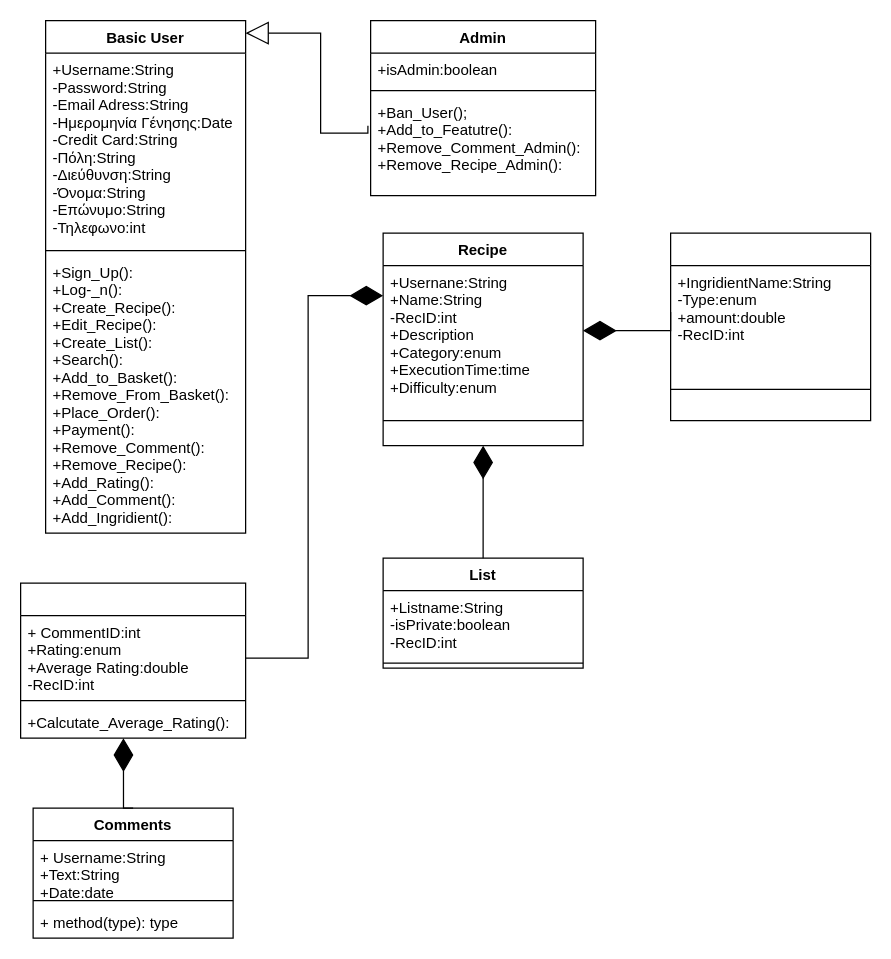
This 891x959 diagram has some shape labels left out. The box of each missing label's shape, as (x1, y1, x2, y2) in pixels:
Ingridients: (669, 232, 871, 421)
Reviews: (19, 582, 246, 738)
